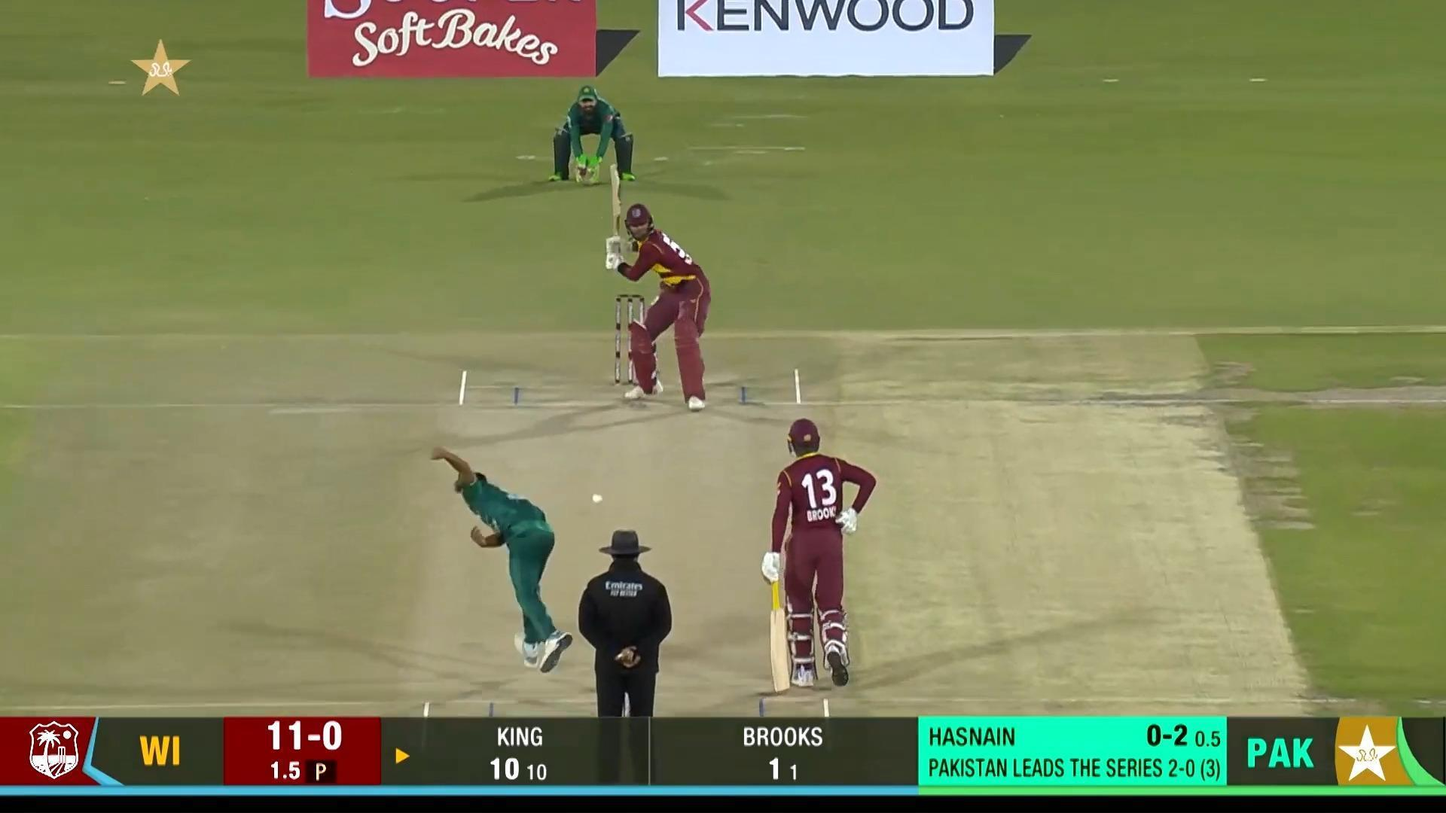BM 1: (604, 162, 712, 413)
BO: (430, 445, 574, 674)
